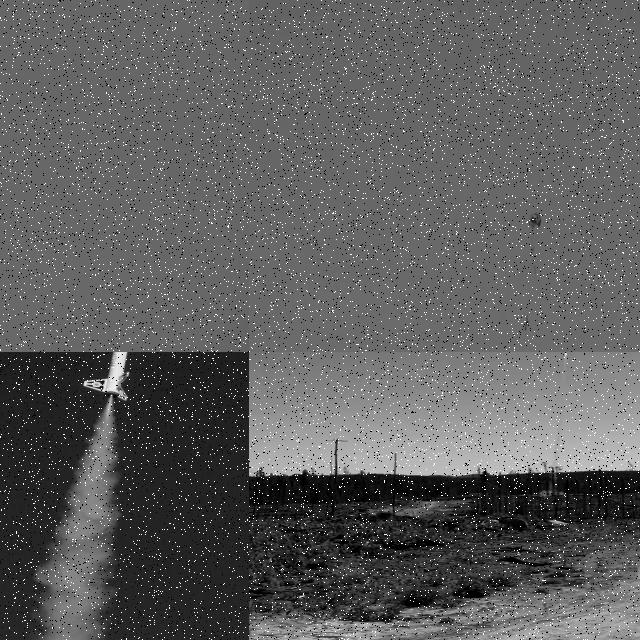Rocket: (83, 352, 137, 401), (563, 352, 568, 356)
